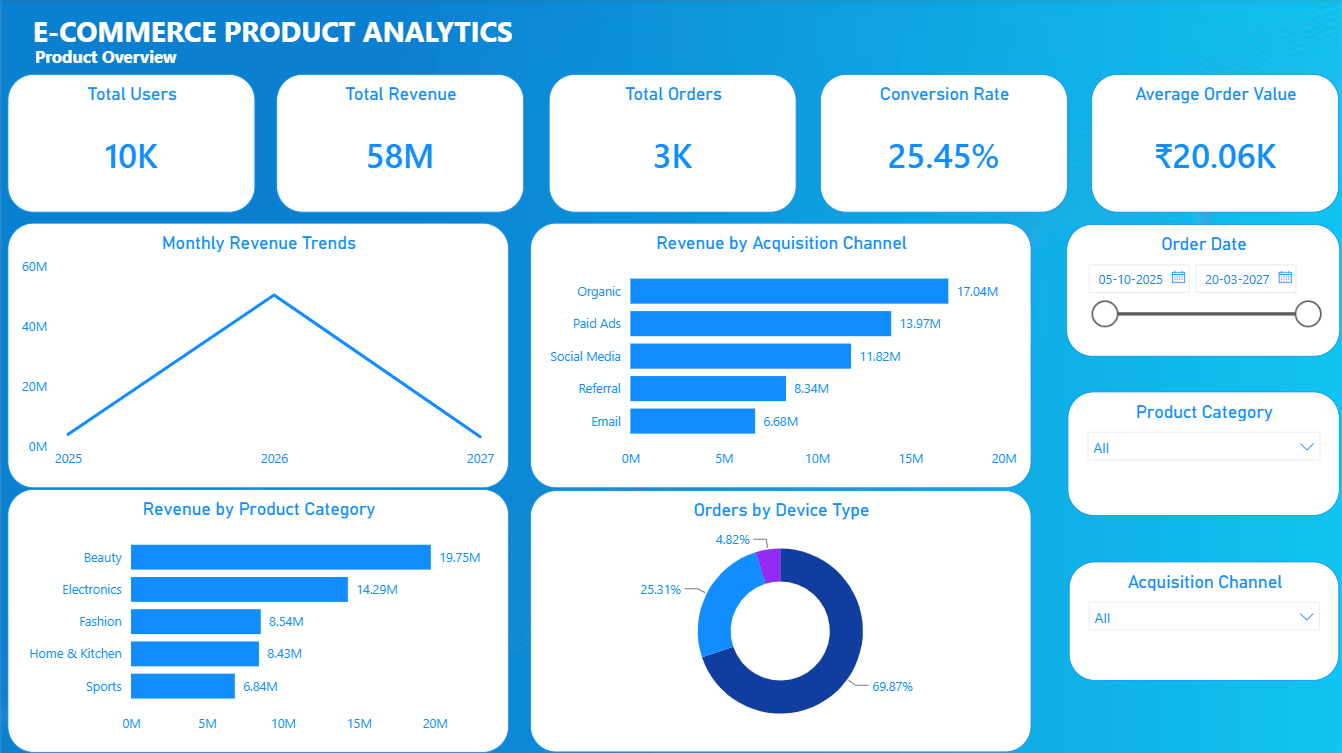

Layout of this report page (visuals, bound fields, positions):
{"tool":"powerbi","page":{"name":"Product Overview","canvas":[1280,720],"ordinal":0},"visuals":[{"type":"cardVisual","title":"Total Users","fields":{"Data":["users_cleaned.Total Users"]},"box":[6.9,71.4,236,131.7],"z":0},{"type":"textbox","box":[6.9,6.9,498.1,49.4],"z":1000},{"type":"cardVisual","title":"Total Revenue","fields":{"Data":["orders_cleaned.Total Revenue"]},"box":[263.5,71.4,236,131.7],"z":2000},{"type":"cardVisual","title":"Total Orders","fields":{"Data":["orders_cleaned.Total Orders"]},"box":[522.8,71.4,236,131.7],"z":3000},{"type":"textbox","box":[23.3,38.4,152.3,32.9],"z":4000},{"type":"cardVisual","title":"Conversion Rate","fields":{"Data":["orders_cleaned.Conversion Rate"]},"box":[780.8,71.4,236,131.7],"z":5000},{"type":"cardVisual","title":"Average Order Value","fields":{"Data":["orders_cleaned.Average Order Value"]},"box":[1038.8,71.4,236,131.7],"z":6000},{"type":"lineChart","title":"Monthly Revenue Trends","fields":{"Category":["orders_cleaned.order_date.Variation.Date Hierarchy.Year","orders_cleaned.order_date.Variation.Date Hierarchy.Month"],"Y":["Sum(orders_cleaned.total_amount)"]},"box":[6.9,212.7,477.5,252.5],"z":7000},{"type":"clusteredBarChart","title":"Revenue by Product Category","fields":{"Category":["products_cleaned.category"],"Y":["Sum(orders_cleaned.total_amount)"]},"box":[6.9,466.6,477.5,251.1],"z":8000},{"type":"clusteredBarChart","title":"Revenue by Acquisition Channel","fields":{"Category":["users_cleaned.acquisition_channel"],"Y":["Sum(orders_cleaned.total_amount)"]},"box":[505,212.7,477.5,252.5],"z":9000},{"type":"donutChart","title":"Orders by Device Type","fields":{"Category":["users_cleaned.device_type"],"Y":["CountNonNull(orders_cleaned.order_id)"]},"box":[505,467.9,477.5,249.7],"z":10000},{"type":"slicer","title":"Order Date","fields":{"Values":["orders_cleaned.order_date"]},"box":[1015.4,214.1,260.7,126.2],"z":11000},{"type":"slicer","title":"Product Category","fields":{"Values":["products_cleaned.category"]},"box":[1016.8,373.2,259.3,118],"z":12000},{"type":"slicer","title":"Acquisition Channel","fields":{"Values":["users_cleaned.acquisition_channel"]},"box":[1018.2,535.2,258,113.9],"z":13000}]}

Visuals, with their boxes in screenshot pixels (x1, y1, x2, y2), scaled from the page's 1280x720 canvas onto the 1342x753 screenshot:
"Total Users" cardVisual: (left=7, top=75, right=255, bottom=212)
textbox: (left=7, top=7, right=529, bottom=59)
"Total Revenue" cardVisual: (left=276, top=75, right=524, bottom=212)
"Total Orders" cardVisual: (left=548, top=75, right=796, bottom=212)
textbox: (left=24, top=40, right=184, bottom=75)
"Conversion Rate" cardVisual: (left=819, top=75, right=1066, bottom=212)
"Average Order Value" cardVisual: (left=1089, top=75, right=1337, bottom=212)
"Monthly Revenue Trends" lineChart: (left=7, top=222, right=508, bottom=487)
"Revenue by Product Category" clusteredBarChart: (left=7, top=488, right=508, bottom=751)
"Revenue by Acquisition Channel" clusteredBarChart: (left=529, top=222, right=1030, bottom=487)
"Orders by Device Type" donutChart: (left=529, top=489, right=1030, bottom=750)
"Order Date" slicer: (left=1065, top=224, right=1338, bottom=356)
"Product Category" slicer: (left=1066, top=390, right=1338, bottom=514)
"Acquisition Channel" slicer: (left=1068, top=560, right=1338, bottom=679)
